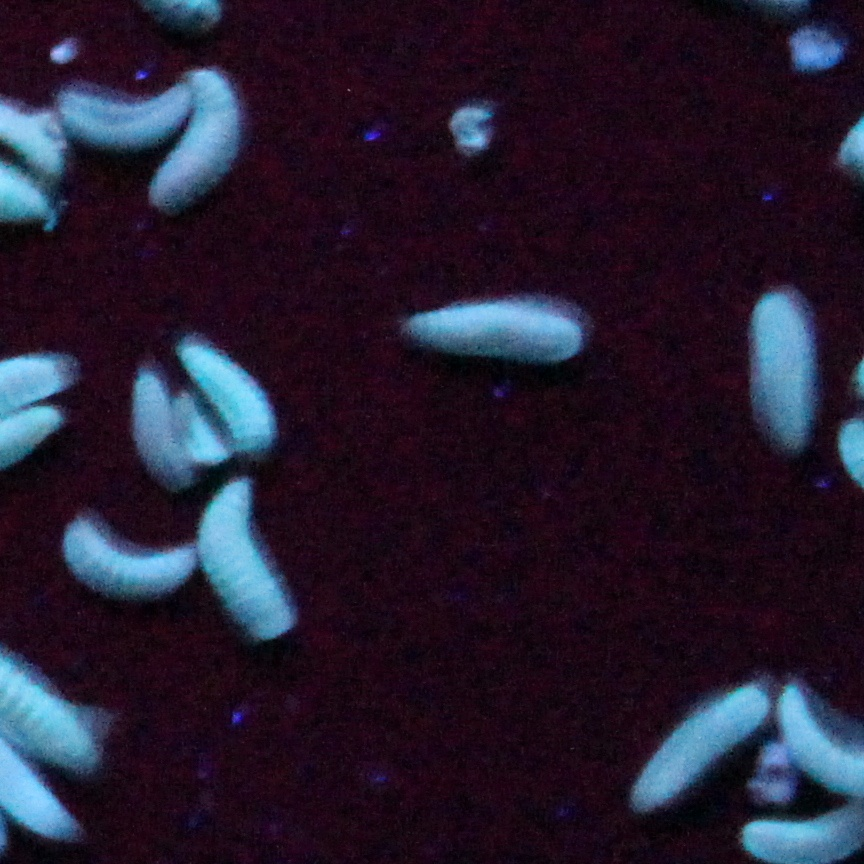larve: (632, 684, 771, 812), (200, 482, 292, 641), (154, 72, 236, 206), (406, 304, 581, 360), (65, 522, 196, 595), (181, 346, 272, 448), (752, 295, 812, 446), (59, 85, 194, 142), (134, 376, 191, 488), (175, 392, 225, 463)
